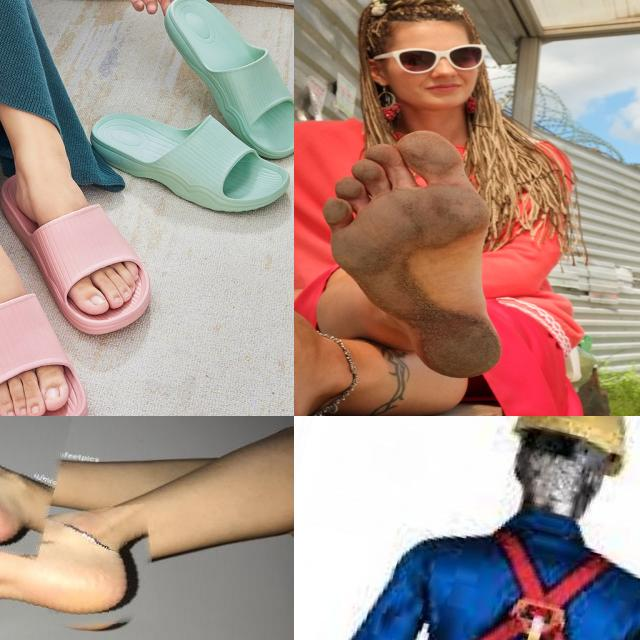Barefoots: (322, 130, 502, 378), (0, 507, 155, 624)
Harness: (476, 531, 611, 640)
Sandals: (0, 141, 187, 416)
